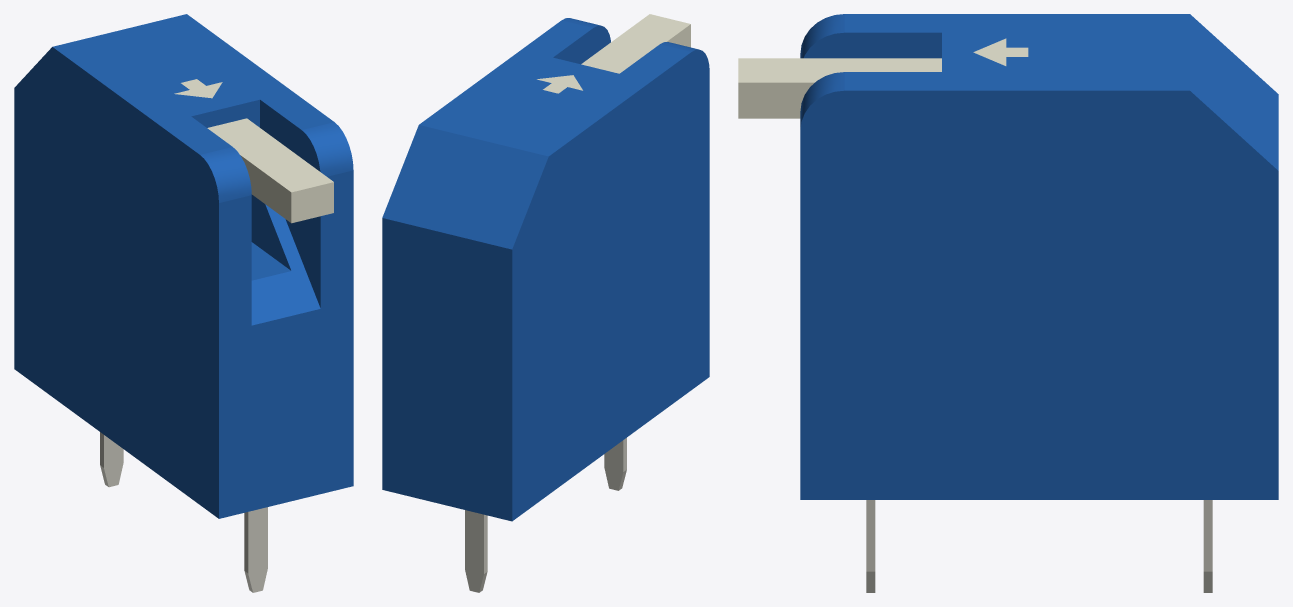
File: kc-sw_dip_spstx01_piano_10.8x4.1mm_w7.62mm_p2.54mm.glb
3 renders of one model, left to right at view 1: azimuth 30°, elevation 25°; view 2: azimuth 150°, elevation 25°; view 3: azimuth 270°, elevation 25°, orthographic. The views are drawn at different scales.
Visible parts, largest first — view 1: 0_0.16666666666666666_0.5_0, 0.75_0.75_0.6666666666666666_0, 0.6666666666666666_0.6666666666666666_0.5833333333333334_0.8; view 2: 0_0.16666666666666666_0.5_0, 0.75_0.75_0.6666666666666666_0, 0.6666666666666666_0.6666666666666666_0.5833333333333334_0.8; view 3: 0_0.16666666666666666_0.5_0, 0.75_0.75_0.6666666666666666_0, 0.6666666666666666_0.6666666666666666_0.5833333333333334_0.8.
Part boxes in pixels (bbox=[...]): 0_0.16666666666666666_0.5_0: bbox=[14, 14, 353, 518]; 0.75_0.75_0.6666666666666666_0: bbox=[174, 79, 333, 223]; 0.6666666666666666_0.6666666666666666_0.5833333333333334_0.8: bbox=[100, 432, 267, 592]; 0_0.16666666666666666_0.5_0: bbox=[382, 18, 709, 521]; 0.75_0.75_0.6666666666666666_0: bbox=[537, 14, 690, 93]; 0.6666666666666666_0.6666666666666666_0.5833333333333334_0.8: bbox=[465, 438, 626, 592]; 0_0.16666666666666666_0.5_0: bbox=[800, 14, 1278, 499]; 0.75_0.75_0.6666666666666666_0: bbox=[738, 38, 1028, 118]; 0.6666666666666666_0.6666666666666666_0.5833333333333334_0.8: bbox=[866, 500, 1212, 592].
Bounding box in the file's own units: 0.4101 × 1.34 × 1.22.
